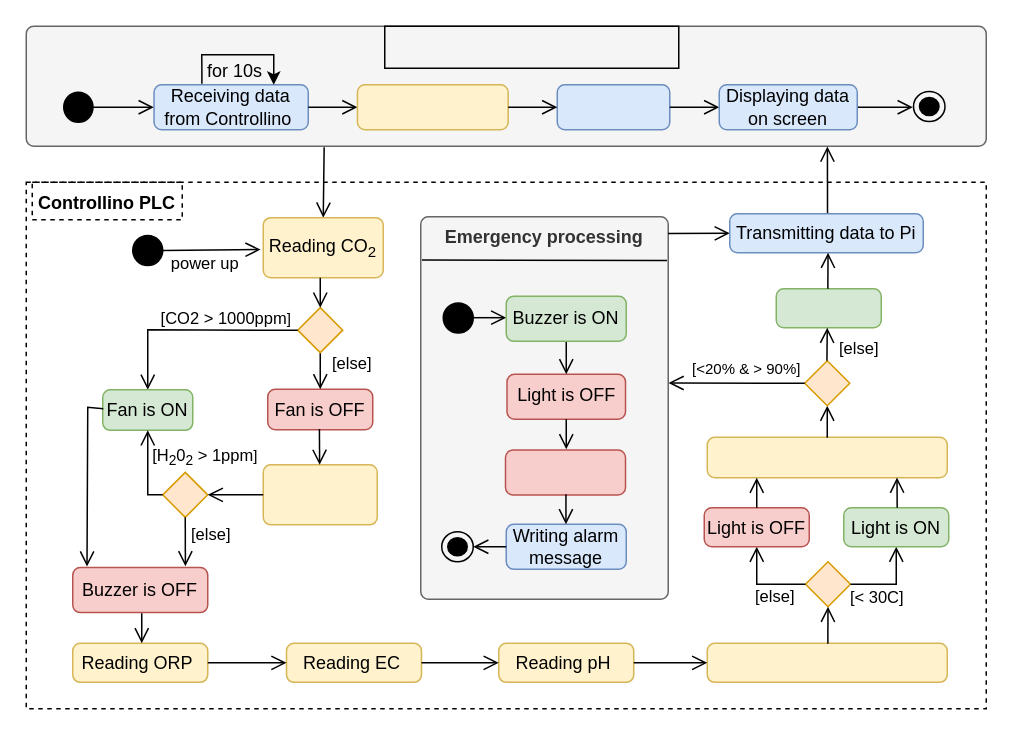
The diagram is 1013 pixels wide and 735 high, and some of its shapes have lost their labels. The centre of each missing label's shape, as x and y in pixels:
Data processing in Raspberry Pi: [531,46]
Pump is OFF: [565,471]
Pump is ON: [828,307]
Reading H 2 O 2: [319,494]
Reading RH and air temperature: [432,106]
Reading water level sensor: [826,457]
Reading water temperature: [826,662]
Writing data to database: [613,106]
